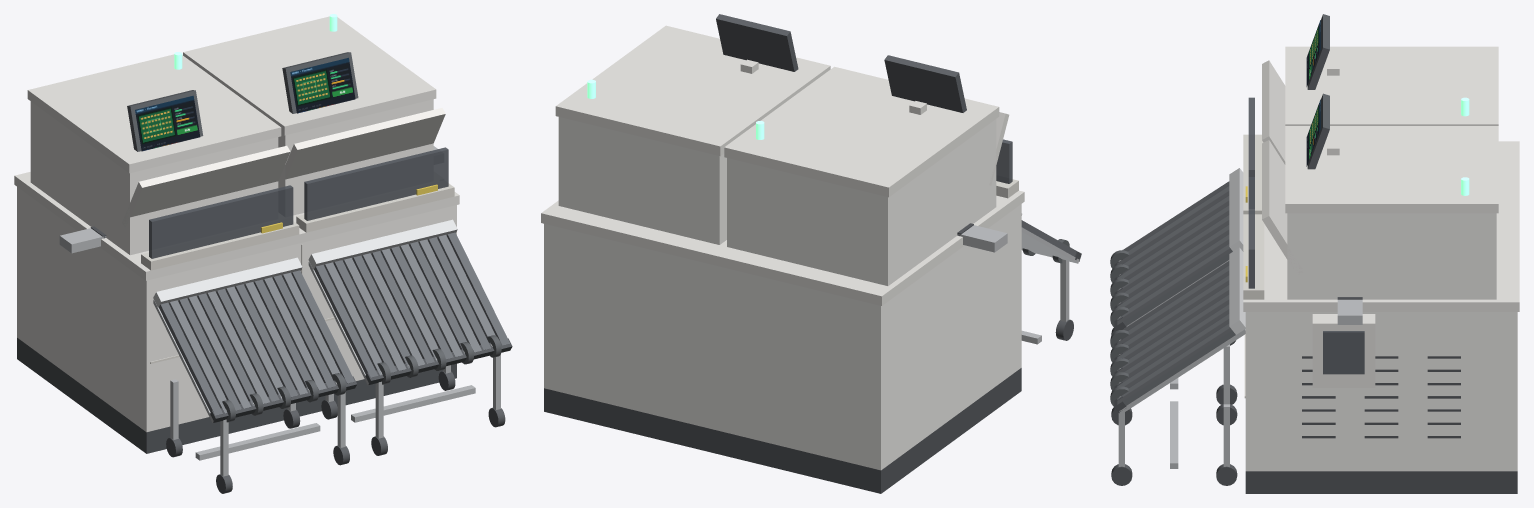
The model's file is hanwha_smt_placement_machine.glb.
3 renders of one model, left to right at view 1: azimuth 30°, elevation 25°; view 2: azimuth 150°, elevation 25°; view 3: azimuth 270°, elevation 25°, orthographic. The views are drawn at different scales.
Visible parts, largest first — view 1: Hanwha_SMT_Placement_Machine; view 2: Hanwha_SMT_Placement_Machine; view 3: Hanwha_SMT_Placement_Machine.
Part boxes in pixels (x1=…): Hanwha_SMT_Placement_Machine: x1=14, y1=14, x2=512, y2=493; Hanwha_SMT_Placement_Machine: x1=541, y1=14, x2=1081, y2=493; Hanwha_SMT_Placement_Machine: x1=1110, y1=14, x2=1519, y2=493.
Bounding box in the file's own units: 2.16 × 1.77 × 1.96.
18 materials, 2 textured.
